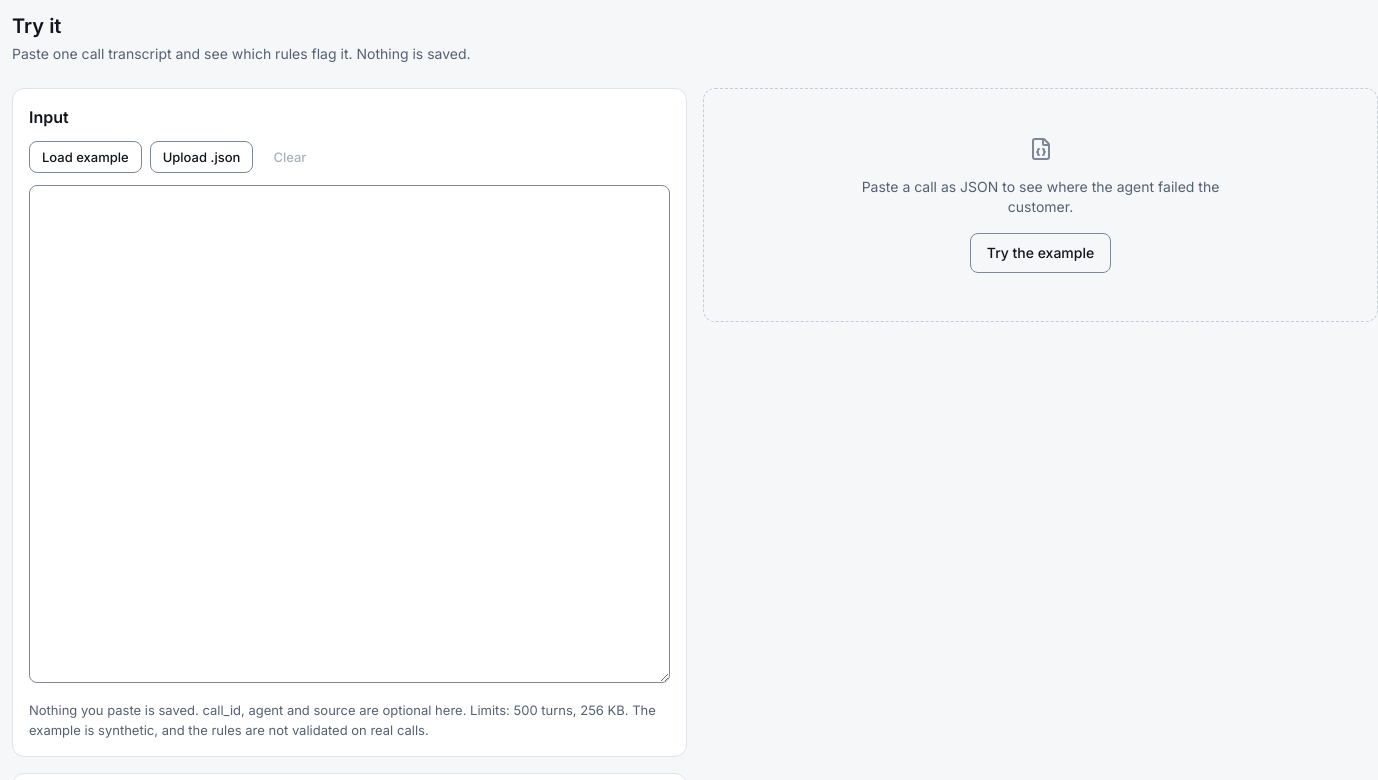
Test: workbench page › shows the validation details from a 422
Click the button "Load example" at (85, 157), box x1=29 y1=141 x2=142 y2=173
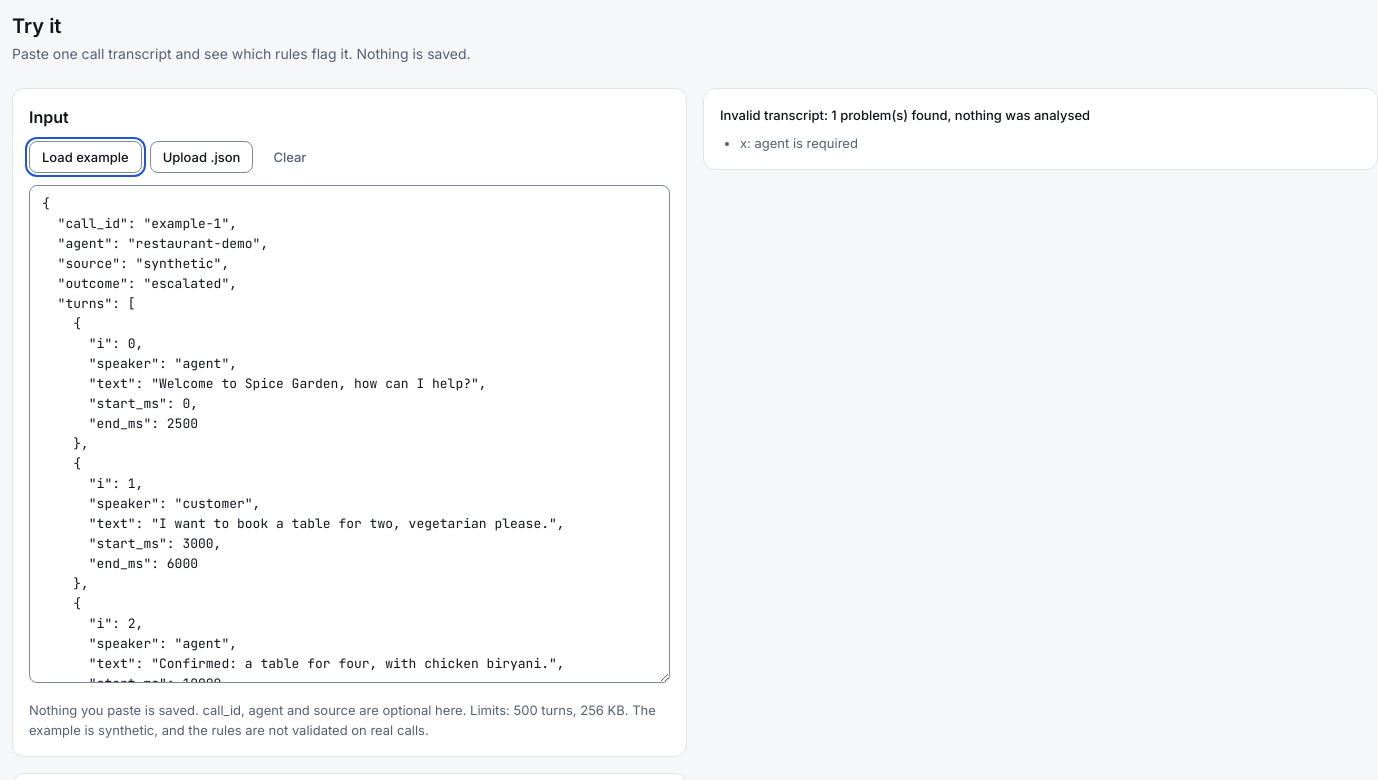
Expected: the list item "x: agent is required" is shown, x1=740 y1=135 x2=858 y2=151
Expected: the text "Invalid transcript: 1 problem(s) found, nothing was analysed" is shown, x1=720 y1=107 x2=1090 y2=123
